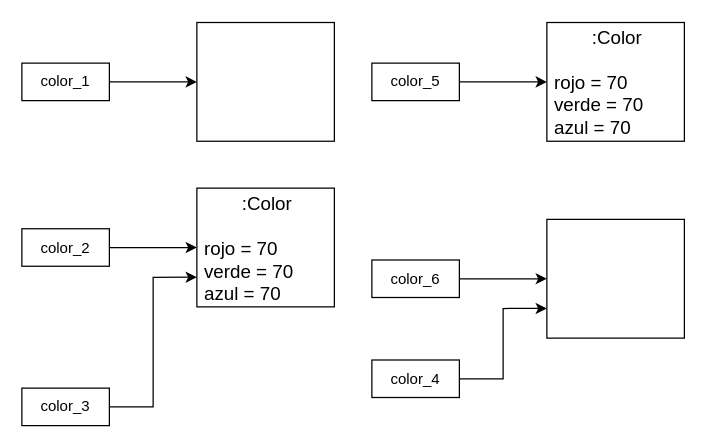
This 706x448 diagram has some shape labels left out. The shapes that lost their labels are listed below. From the top down, each one's box as (x1, y1, x2, y2) in pixels, then its label:
(196, 21, 334, 141): :Color rojo = 185 verde = 185 azul = 185
(546, 218, 684, 338): :Color rojo = 140 verde = 250 azul = 140
